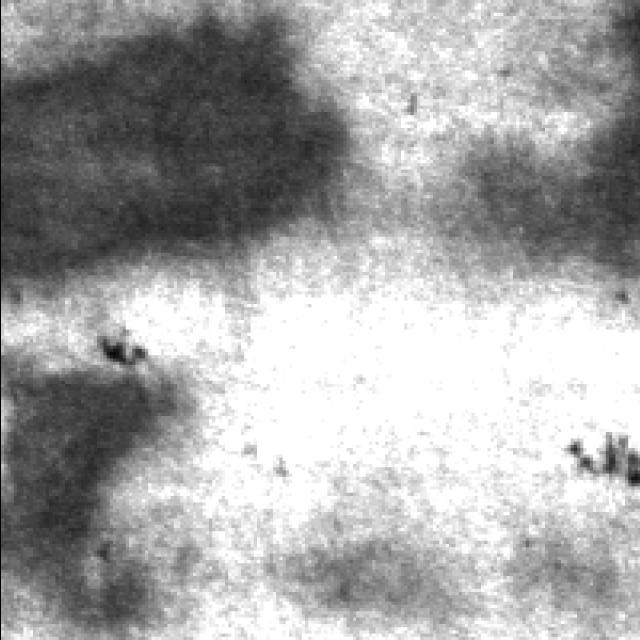patches: (0, 0, 365, 301), (445, 1, 640, 334), (3, 339, 205, 640), (558, 394, 640, 520)
